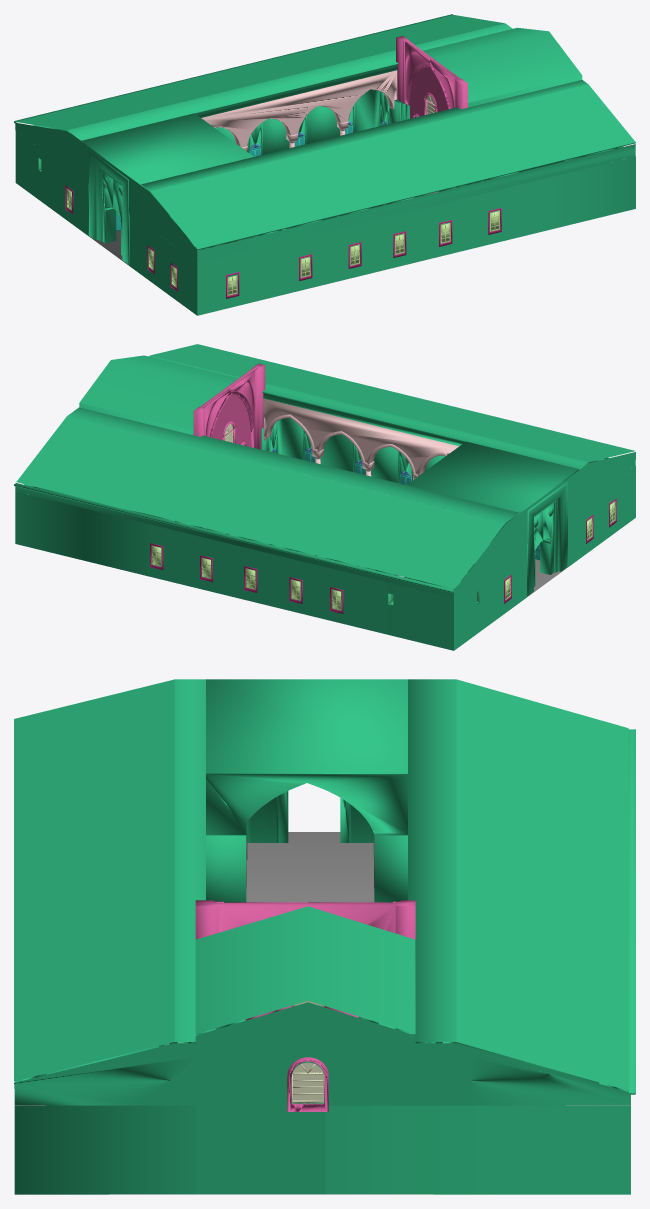
3 renders of one model, top to bottom at view 1: azimuth 30°, elevation 25°; view 2: azimuth 150°, elevation 25°; view 3: azimuth 270°, elevation 25°, orthographic. The views are drawn at different scales.
Parts seen in each view (by area): view 1: Object005, Object017, Line040, Object010, Object013, Object009, Line252, Object018, Object007, Object036, Box052; view 2: Object005, Object017, Line040, Object010, Object013, Object009, Object018, Line252, Object007, Object036, Box052, Box035; view 3: Object005, Object017, Line040, Box111, Object013, Object009, Object020, Object007, Object014.
Part boxes in pixels (bbox=[...]): Object005: bbox=[17, 15, 635, 249]; Object017: bbox=[14, 14, 635, 315]; Line040: bbox=[32, 23, 635, 284]; Object010: bbox=[201, 70, 397, 147]; Object013: bbox=[396, 36, 467, 109]; Object009: bbox=[89, 149, 140, 264]; Line252: bbox=[65, 185, 501, 298]; Object018: bbox=[406, 42, 456, 118]; Object007: bbox=[103, 172, 122, 255]; Object036: bbox=[67, 189, 499, 294]; Box052: bbox=[66, 188, 499, 295]; Object005: bbox=[16, 344, 634, 588]; Object017: bbox=[14, 452, 635, 650]; Line040: bbox=[24, 355, 608, 608]; Object010: bbox=[263, 398, 458, 476]; Object013: bbox=[193, 363, 265, 449]; Object009: bbox=[519, 480, 567, 595]; Object018: bbox=[203, 370, 254, 446]; Line252: bbox=[150, 498, 616, 613]; Object007: bbox=[534, 503, 553, 586]; Object036: bbox=[152, 502, 614, 609]; Box052: bbox=[151, 501, 615, 610]; Box035: bbox=[271, 447, 539, 560]; Object005: bbox=[14, 679, 628, 1090]; Object017: bbox=[14, 729, 635, 1194]; Line040: bbox=[14, 679, 629, 1103]; Box111: bbox=[15, 832, 630, 1194]; Object013: bbox=[195, 900, 415, 1020]; Object009: bbox=[247, 796, 373, 842]; Object020: bbox=[292, 1001, 323, 1100]; Object007: bbox=[278, 791, 349, 842]; Object014: bbox=[287, 1057, 328, 1111].
Bounding box in the file's own units: 4210 × 1048 × 3048.
